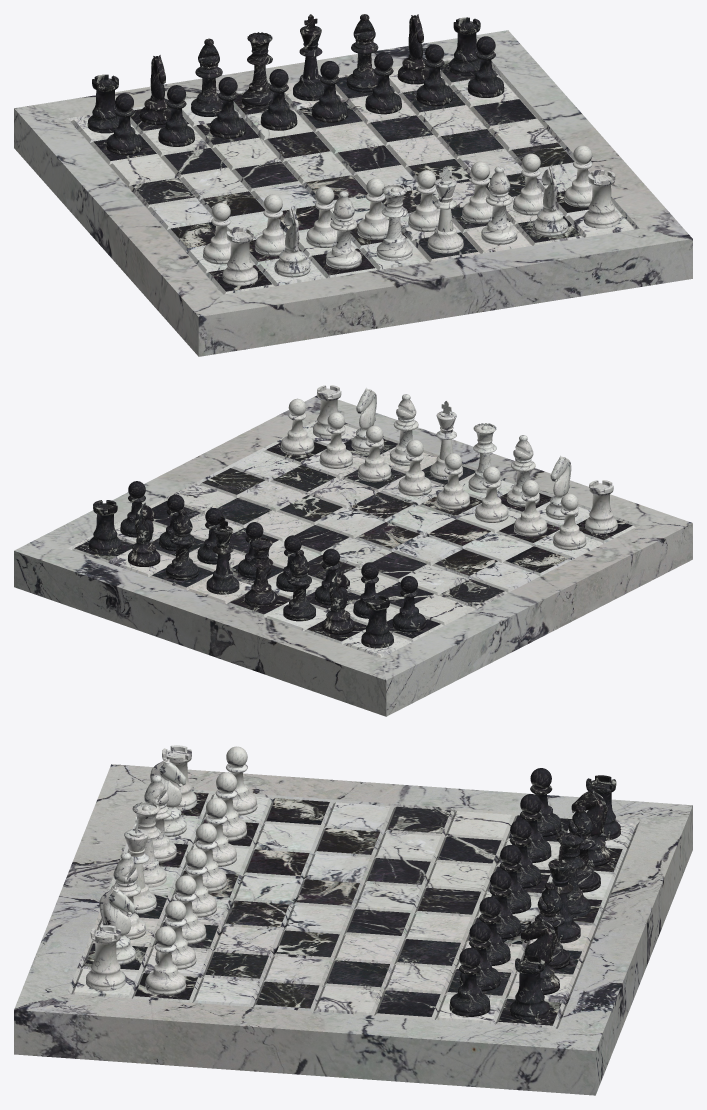
File: Unity2Skfb.gltf
3 views of the same model, one above another, from view 1: azimuth 30°, elevation 25°; view 2: azimuth 150°, elevation 25°; view 3: azimuth 270°, elevation 25° (orthographic). The views are drawn at different scales.
Visible parts, largest first — view 1: node_Board_15212, node_White King_14944, node_White Bishop 2_14988, node_White Bishop 1_15170, node_White Queen_15050, node_Black King_14844, node_Black Bishop 2_15054, node_Black Bishop 1_15046, node_Black Queen_14922, node_White Rook 2_14752, node_White Rook 1_15166, node_Black Rook 2_15162 (+21 smaller); view 2: node_Board_15212, node_Black King_14844, node_Black Bishop 2_15054, node_Black Bishop 1_15046, node_Black Queen_14922, node_Black Knight 1_14970, node_Black Knight 2_15030, node_Black Rook 1_15004, node_White Rook 1_15166, node_Black Rook 2_15162, node_White Pawn 1_14914, node_Black Pawn 8_15084 (+21 smaller); view 3: node_Board_15212, node_Black Rook 2_15162, node_White Rook 2_14752, node_White Pawn 1_14914, node_Black Pawn 1_14760, node_White Knight 2_15074, node_Black Knight 2_15030, node_White Knight 1_14882, node_Black Knight 1_14970, node_Black Queen_14922, node_White Queen_15050, node_Black King_14844 (+21 smaller).
Boxes of the visible parts, bbox=[...] form: node_Board_15212: bbox=[14, 30, 692, 356]; node_White King_14944: bbox=[427, 166, 463, 253]; node_White Bishop 2_14988: bbox=[481, 166, 517, 244]; node_White Bishop 1_15170: bbox=[326, 191, 361, 269]; node_White Queen_15050: bbox=[376, 184, 412, 261]; node_Black King_14844: bbox=[293, 14, 324, 100]; node_Black Bishop 2_15054: bbox=[346, 14, 378, 92]; node_Black Bishop 1_15046: bbox=[191, 38, 222, 116]; node_Black Queen_14922: bbox=[242, 32, 273, 108]; node_White Rook 2_14752: bbox=[584, 169, 619, 228]; node_White Rook 1_15166: bbox=[222, 227, 257, 285]; node_Black Rook 2_15162: bbox=[449, 17, 480, 76]; node_Board_15212: bbox=[14, 395, 692, 716]; node_Black King_14844: bbox=[206, 515, 239, 594]; node_Black Bishop 2_15054: bbox=[166, 509, 198, 580]; node_Black Bishop 1_15046: bbox=[283, 549, 315, 621]; node_Black Queen_14922: bbox=[245, 537, 277, 607]; node_Black Knight 1_14970: bbox=[322, 570, 354, 634]; node_Black Knight 2_15030: bbox=[128, 502, 160, 566]; node_Black Rook 1_15004: bbox=[361, 594, 393, 648]; node_White Rook 1_15166: bbox=[585, 480, 617, 533]; node_Black Rook 2_15162: bbox=[89, 500, 121, 553]; node_White Pawn 1_14914: bbox=[280, 398, 314, 455]; node_Black Pawn 8_15084: bbox=[392, 576, 425, 632]; node_Board_15212: bbox=[14, 764, 692, 1095]; node_Black Rook 2_15162: bbox=[510, 955, 549, 1020]; node_White Rook 2_14752: bbox=[86, 925, 125, 990]; node_White Pawn 1_14914: bbox=[145, 926, 186, 995]; node_Black Pawn 1_14760: bbox=[449, 948, 490, 1016]; node_White Knight 2_15074: bbox=[99, 886, 135, 964]; node_Black Knight 2_15030: bbox=[521, 916, 559, 994]; node_White Knight 1_14882: bbox=[150, 758, 186, 836]; node_Black Knight 1_14970: bbox=[571, 788, 610, 866]; node_Black Queen_14922: bbox=[556, 832, 590, 917]; node_White Queen_15050: bbox=[132, 802, 166, 887]; node_Black King_14844: bbox=[548, 846, 580, 943].
Bounding box in the file's own units: 99.48 × 21.47 × 99.48.
16 materials, 16 textured.
